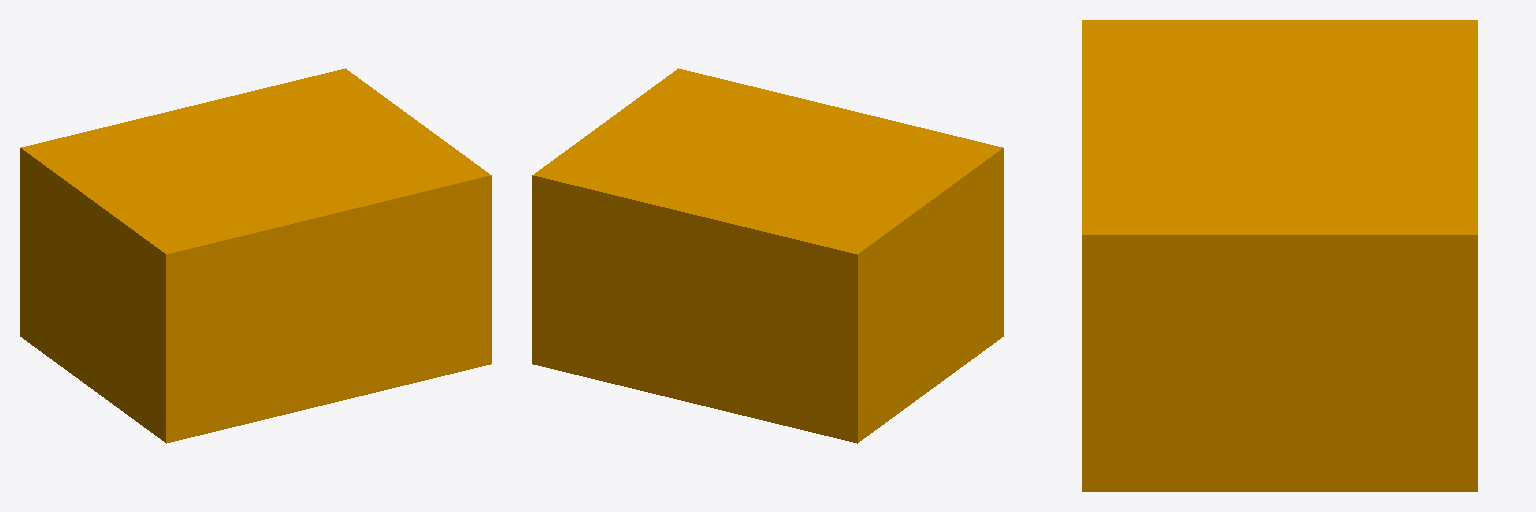
The robot description file, URDF, robot "yellow_box":
<?xml version="1.0"?>

<robot name="yellow_box">
    
  <link name="yellow_box">
    <inertial>
      <origin xyz="0 0 0" />
      <mass value="0.01" />
      <inertia  ixx="0.0" ixy="0.0"  ixz="0.0"  iyy="0.0"  iyz="0.0"  izz="0.0" />
    </inertial>
    <visual>
      <origin xyz="0 0 0"/>
      <geometry>
        <box size="0.18 0.14 0.1" />
      </geometry>
    </visual>
    <collision>
      <origin xyz="0 0 0"/>
      <geometry>
        <box size="0.18 0.14 0.1" />
      </geometry>
    </collision>
  </link>
  
  <gazebo reference="yellow_box">
    <material>Gazebo/Yellow</material>
  </gazebo>
  
</robot>

--- Facts derived from the render (not from the file) ---
Views: 3 orthographic renders of the robot side by side, from view 1: azimuth 30°, elevation 25°; view 2: azimuth 150°, elevation 25°; view 3: azimuth 270°, elevation 25°.
Model yellow_box with 1 links and 0 joints (none), rooted at yellow_box, posed all joints at 0.
Visible links, largest first — view 1: yellow_box; view 2: yellow_box; view 3: yellow_box.
Boxes of the visible links, box(x1,y1,x2,y2) form: yellow_box: box(20, 68, 491, 443); yellow_box: box(532, 68, 1003, 443); yellow_box: box(1082, 20, 1477, 491).
Bounding box of the posed robot: 0.18 × 0.14 × 0.1 m (x, y, z).
Geometry: primitives only (box / cylinder / sphere), no mesh files.